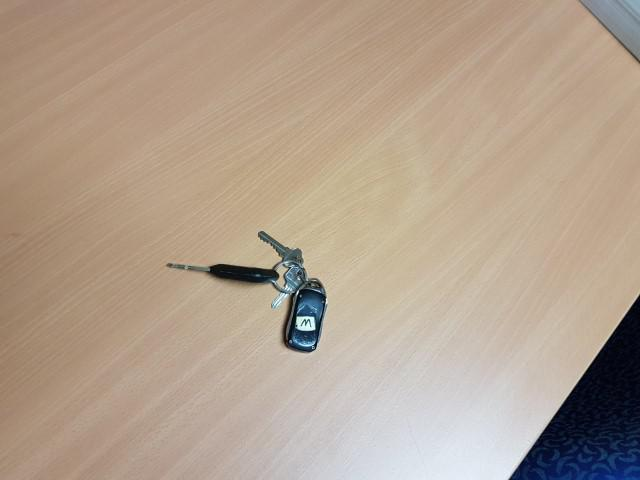key: (165, 261, 280, 284)
